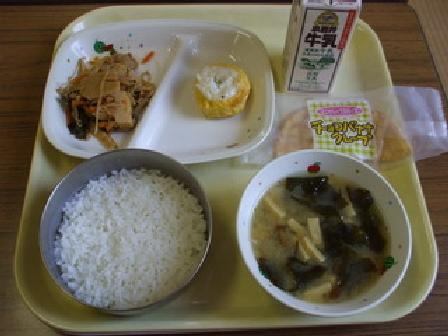Milk: (272, 0, 362, 95)
Rice: (40, 155, 210, 313)
Soups: (240, 156, 409, 315)
pastry: (268, 95, 437, 169)
salad with sauce: (61, 46, 157, 150)
snacks: (183, 58, 265, 120)
